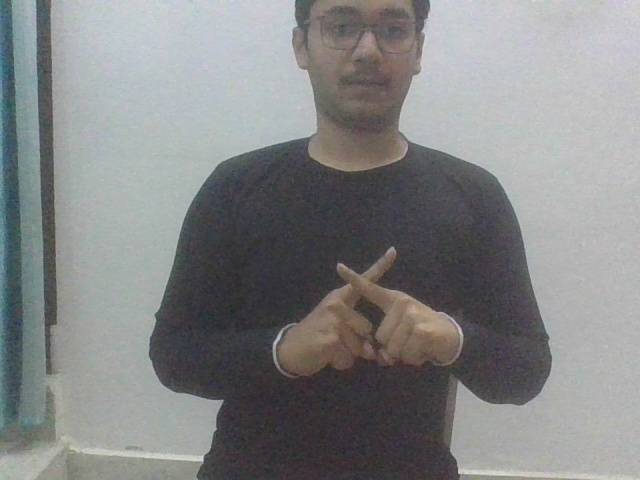X: (304, 244, 433, 380)
